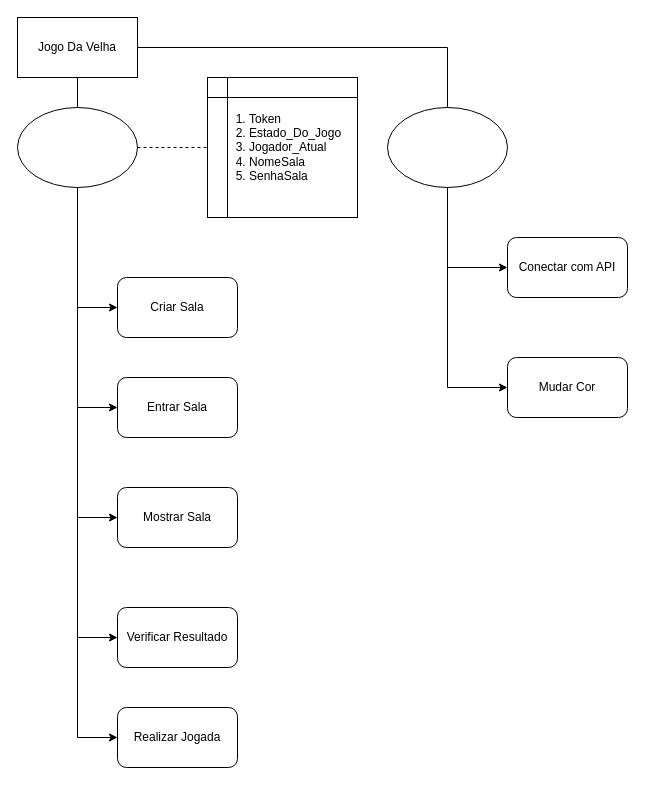
Some shapes in this 645 by 785 pixel diagram are drawn without their labels. Each missing label, with the centre of its shape:
"Java Script" goes at (x=447, y=147).
"Python API" goes at (x=77, y=147).
